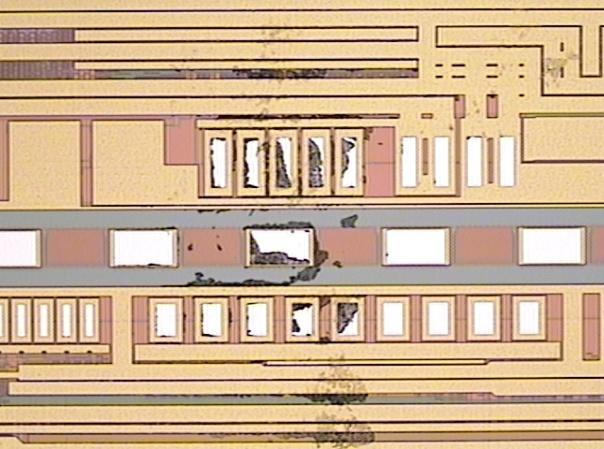PO CONTAMINATION: (184, 15, 588, 449)
